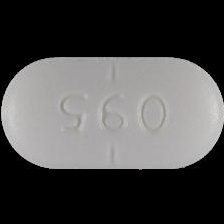68084-862: (0, 0, 224, 224)
